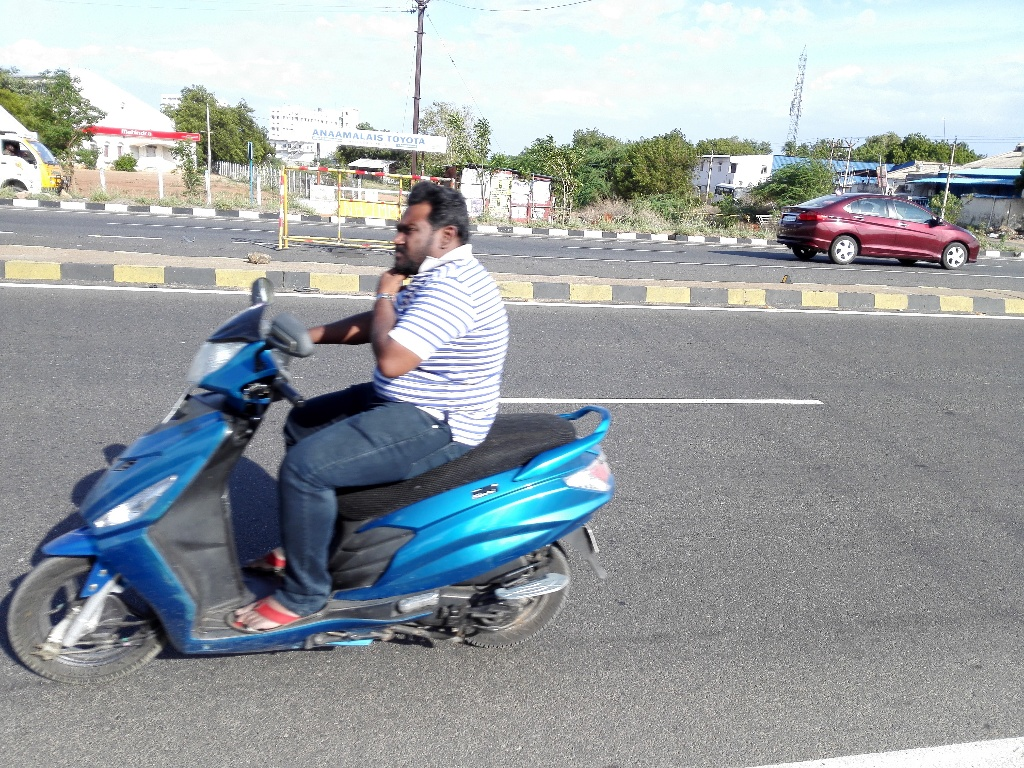biker: (1, 147, 646, 702)
nohelmet: (383, 170, 485, 287)
